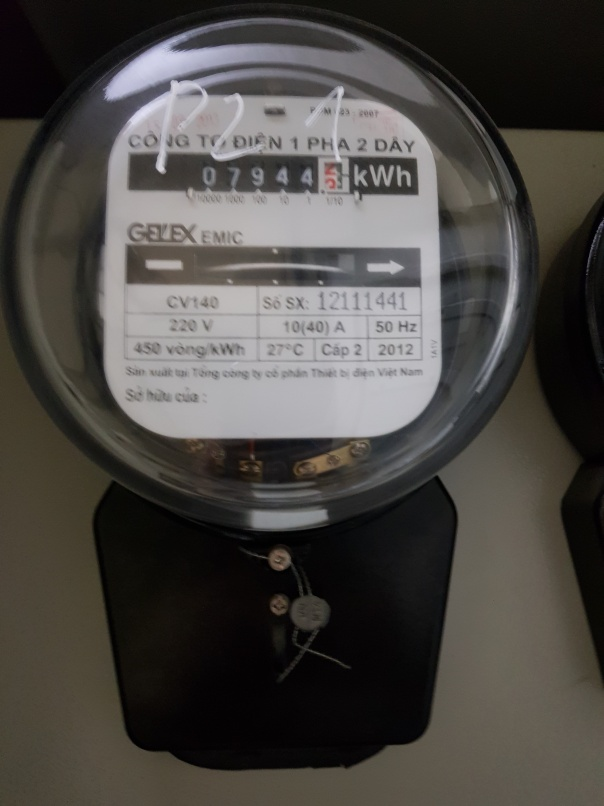counter: (129, 152, 423, 195)
electricity_meter: (21, 16, 536, 531)
